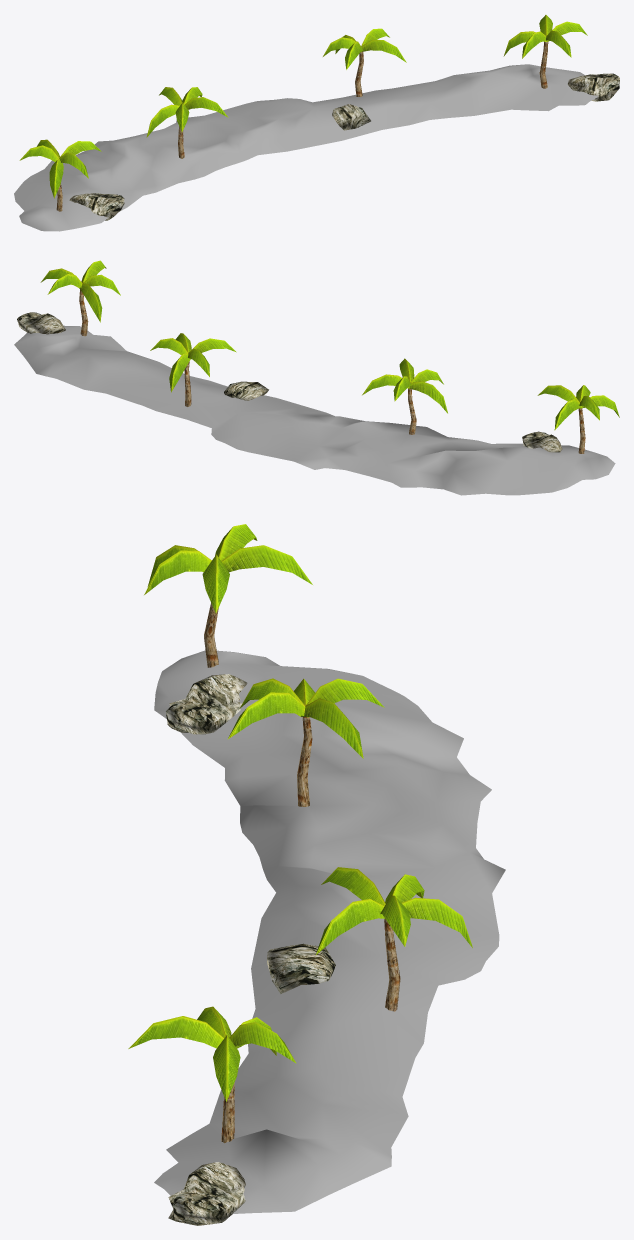
The model's file is desert_island_12.fbx.
3 renders of one model, top to bottom at view 1: azimuth 30°, elevation 25°; view 2: azimuth 150°, elevation 25°; view 3: azimuth 270°, elevation 25°, orthographic. The views are drawn at different scales.
Parts seen in each view (by area): view 1: desert_island_12; view 2: desert_island_12; view 3: desert_island_12.
Part boxes in pixels (left/top/right/bottom): desert_island_12: left=14, top=15, right=619, bottom=231; desert_island_12: left=14, top=260, right=619, bottom=495; desert_island_12: left=128, top=524, right=505, bottom=1225.
Size of the model in its own units: 0.5827 by 0.0763 by 0.1615.
2 materials, 1 textured.
